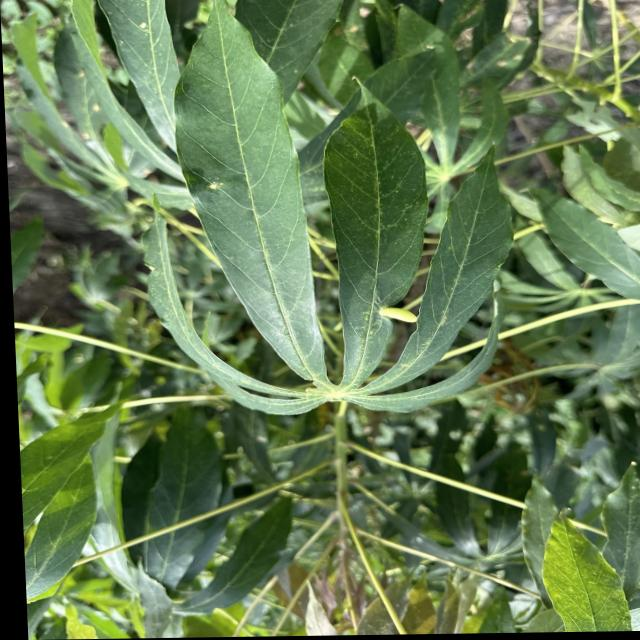Mosca: (366, 285, 427, 336), (132, 13, 155, 32), (89, 98, 108, 120), (70, 67, 89, 83)
